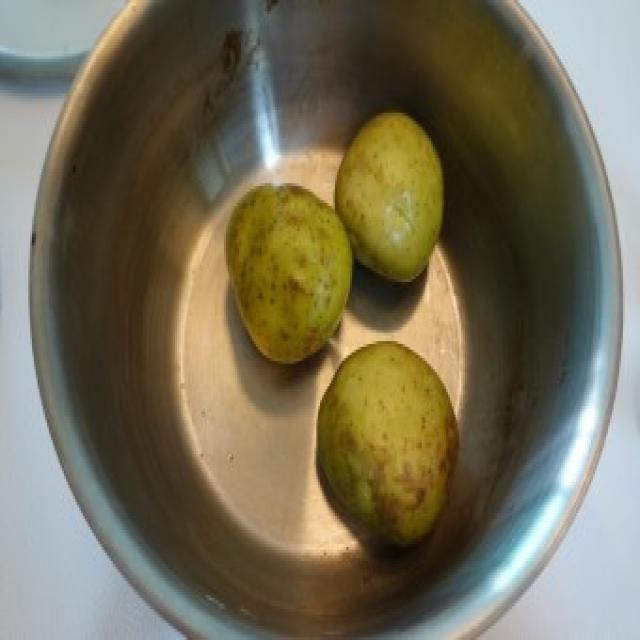potato: (314, 337, 454, 548), (222, 179, 355, 370), (338, 108, 446, 284)
